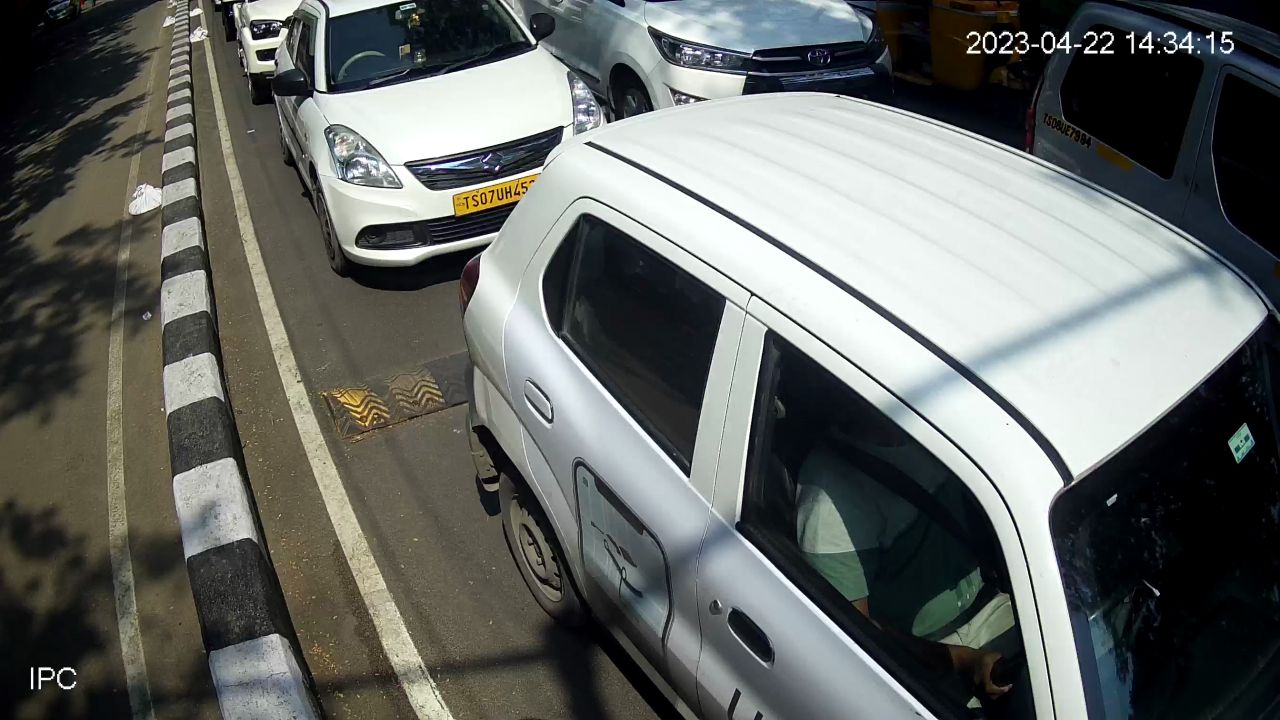license_plate: (448, 167, 556, 222)
